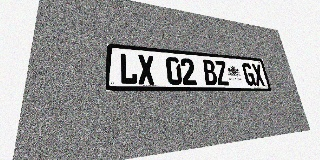0: (165, 57, 183, 85)
2: (180, 58, 197, 85)
B: (202, 59, 218, 85)
G: (241, 63, 256, 86)
L: (119, 53, 138, 85)
X: (137, 54, 155, 85), (251, 63, 266, 86)
Z: (214, 60, 230, 85)
